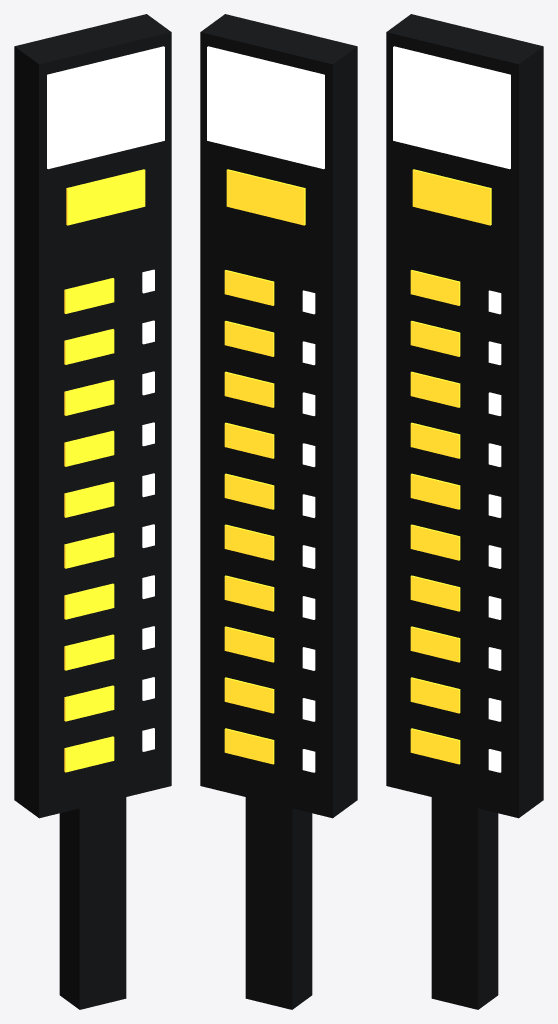
Rendered from cota_pylon.glb.
3 views of the same model, side by side, from view 1: azimuth 30°, elevation 25°; view 2: azimuth 150°, elevation 25°; view 3: azimuth 330°, elevation 25° (orthographic).
Parts seen in each view (by area): view 1: austin-scoring-pylon; view 2: austin-scoring-pylon; view 3: austin-scoring-pylon.
Boxes of the visible parts, x1=… form: austin-scoring-pylon: x1=14, y1=14, x2=171, y2=1009; austin-scoring-pylon: x1=200, y1=14, x2=357, y2=1009; austin-scoring-pylon: x1=386, y1=14, x2=543, y2=1009.
Size of the model in its own units: 3.4 by 23.5 by 1.2.
